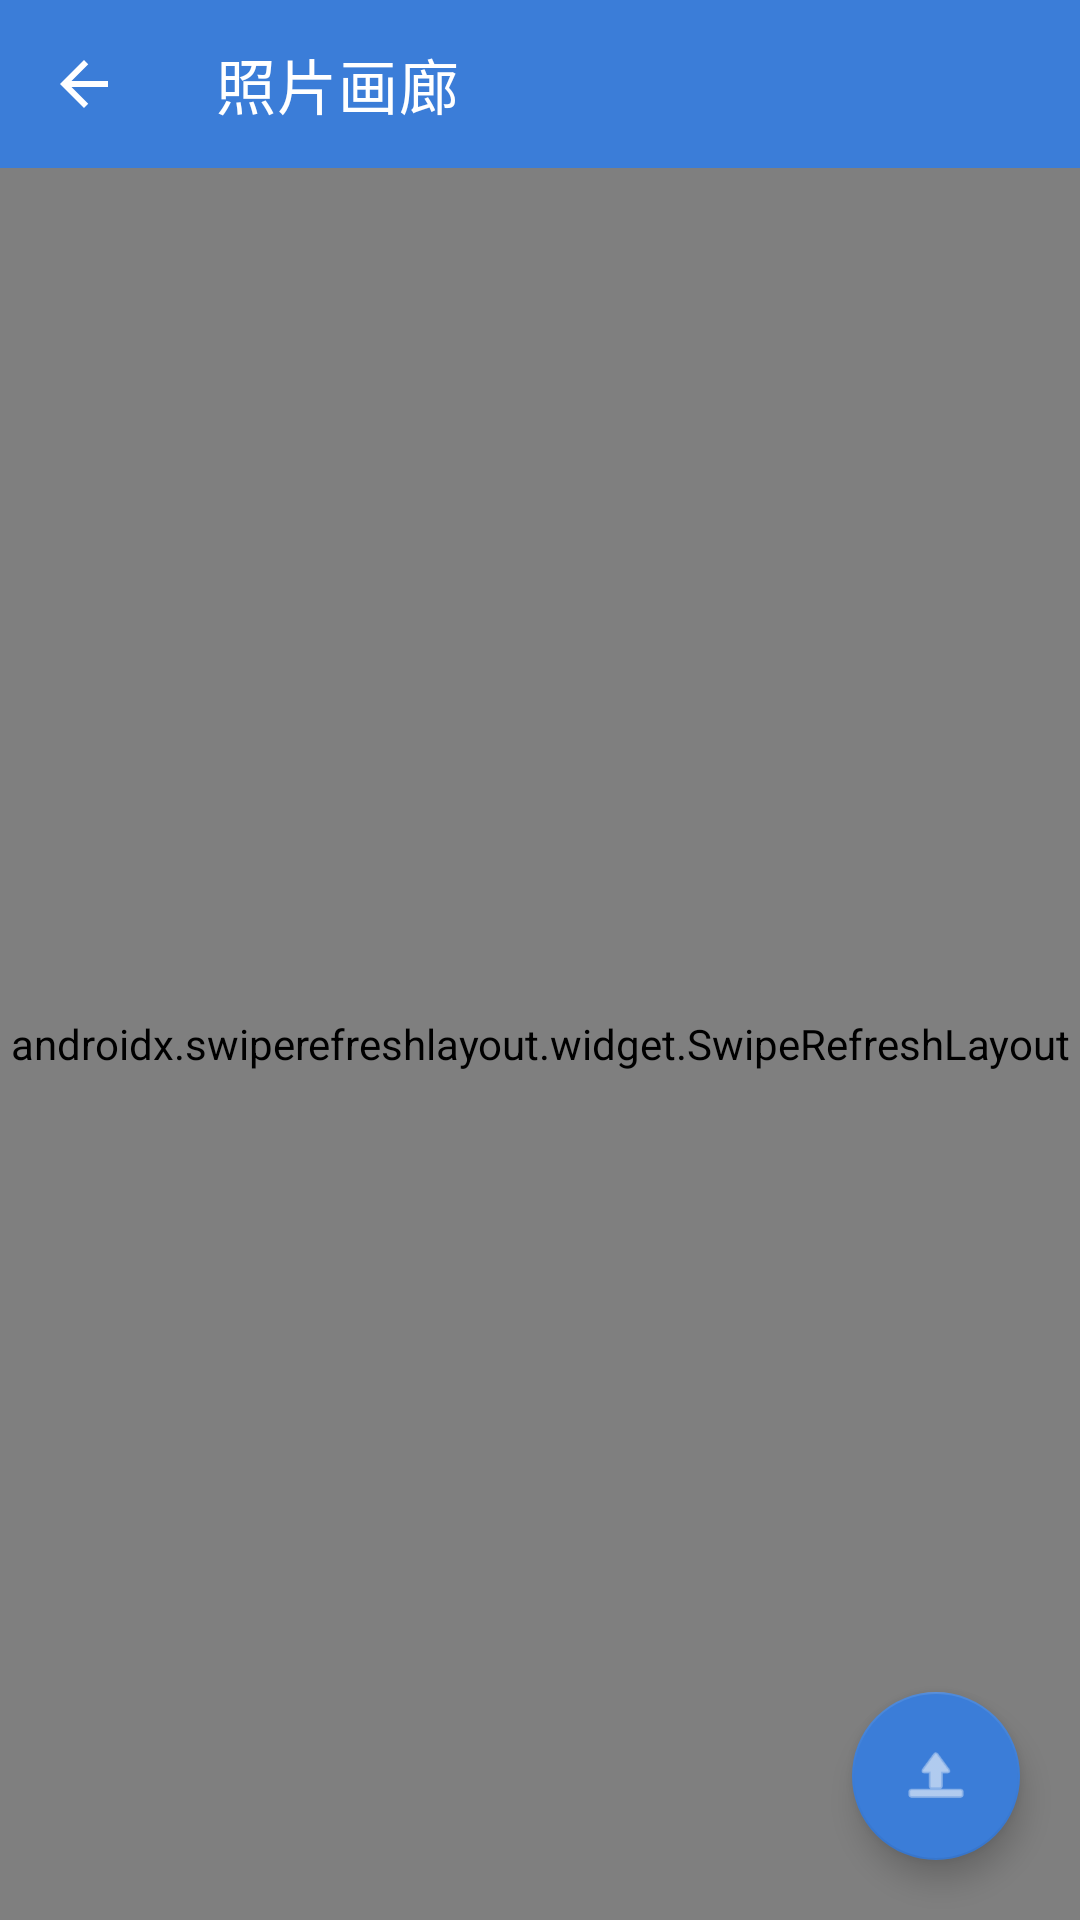

Named icons in this screenshot (1080w x 1920h) and their centers, [x,y]:
上传照片: [936,1776]
